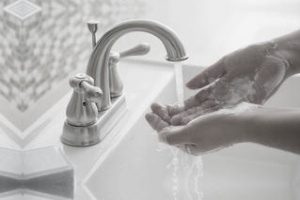washing hand: (100, 21, 273, 160)
